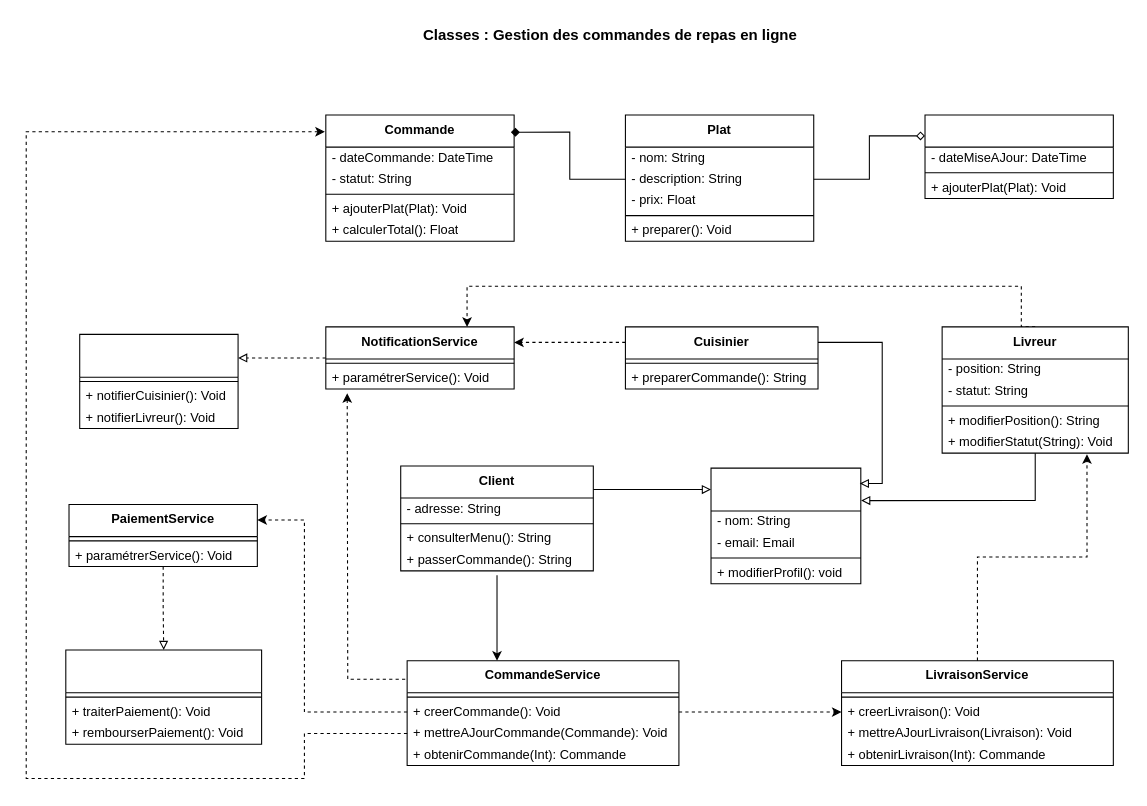
The diagram is 1147 pixels wide and 806 high, and some of its shapes have lost their labels. Each missing label, with the box of its shape:
<<interface>> INotification: (79, 333, 238, 429)
<<interface>> IPaiement: (65, 649, 262, 744)
Menu: (924, 114, 1113, 198)
Utilisateur {abstract}: (710, 467, 861, 584)
